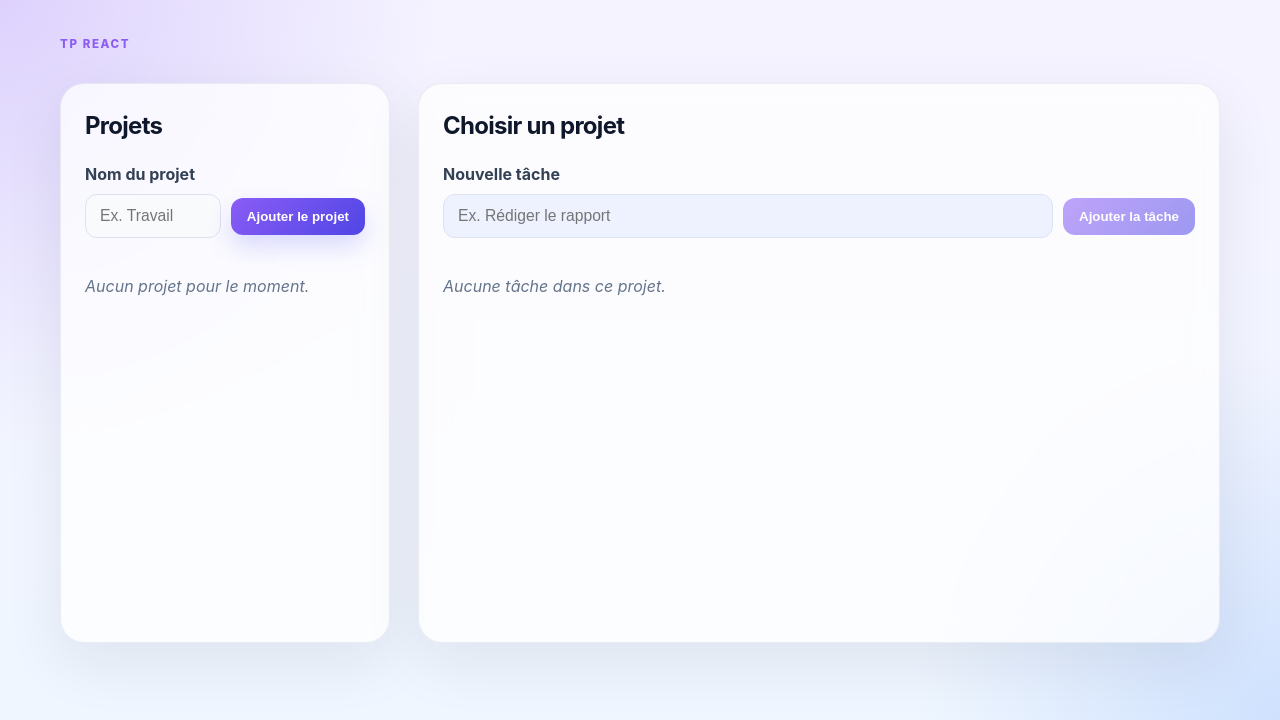
Test: ToDo app › allows creating a project and adding a task to it
Type "Travail" into the field labelled "Nom du projet" at x=153, y=216, box x1=85 y1=194 x2=221 y2=238
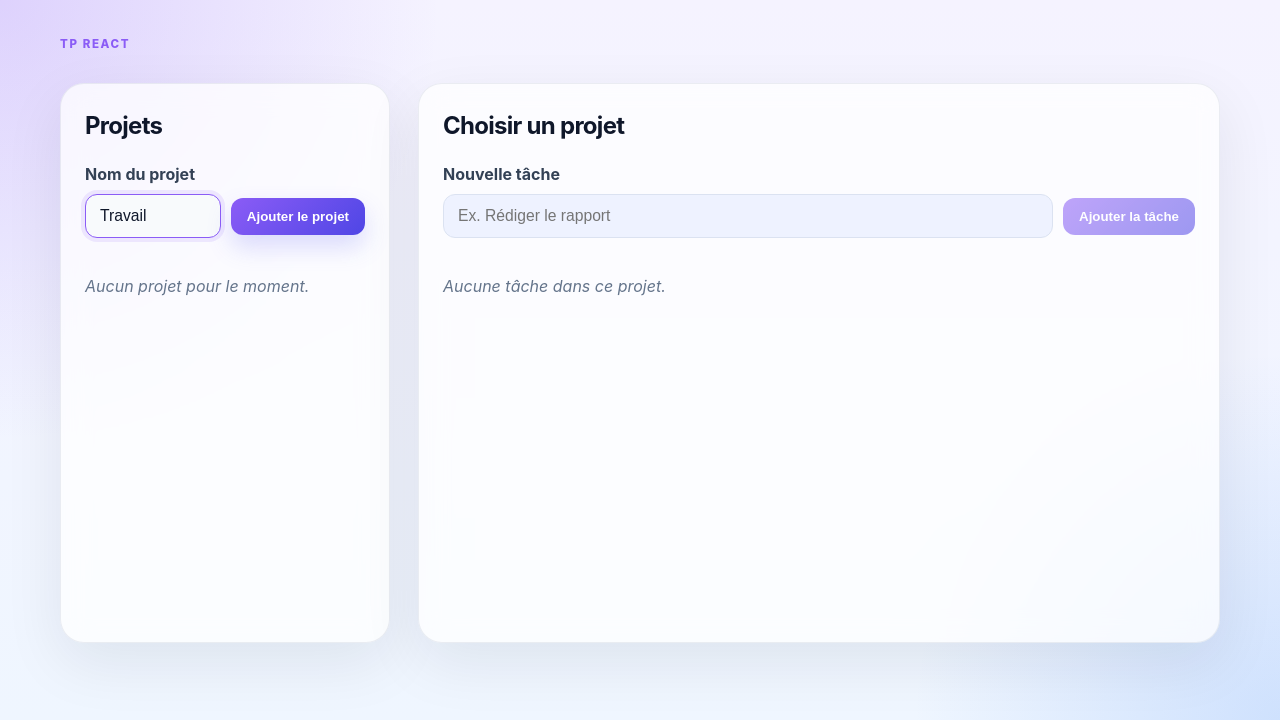
Click the button "Ajouter le projet" at x=298, y=216, box x1=231 y1=198 x2=365 y2=235
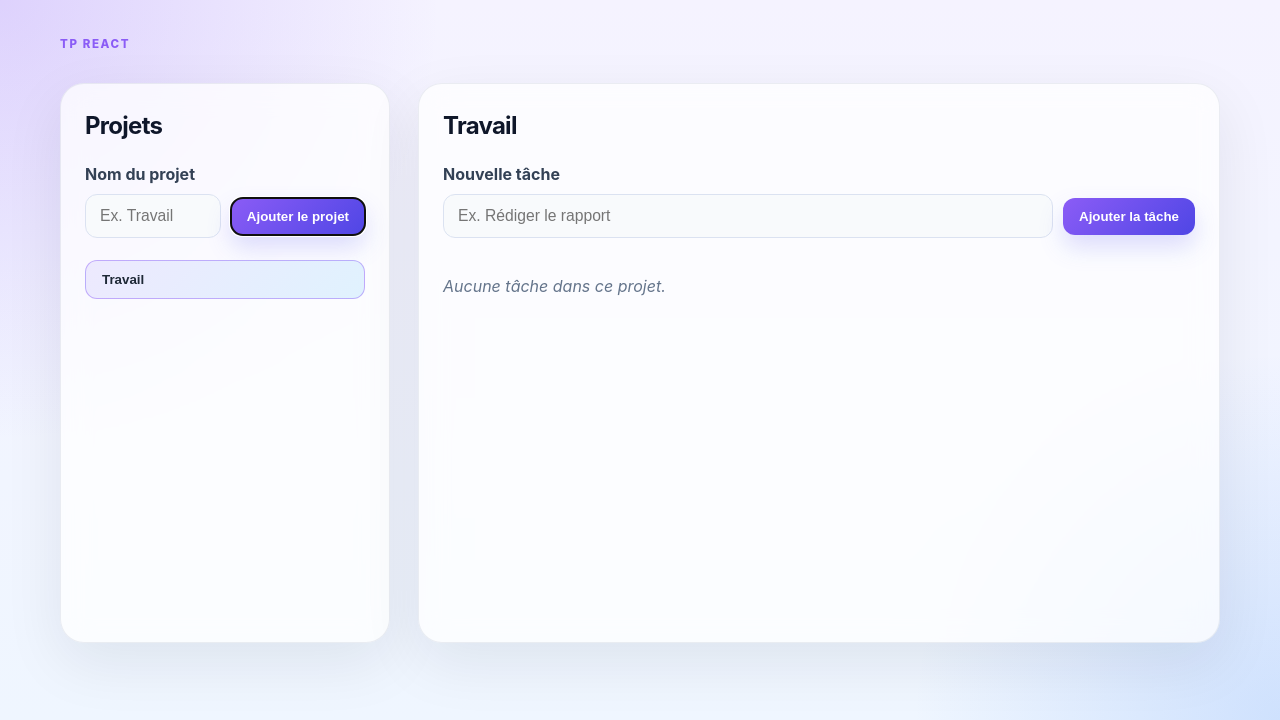
Check: the button "Travail" is shown, box x1=85 y1=260 x2=365 y2=299
Type "Rédiger le rapport" into the field labelled "Nouvelle tâche" at x=748, y=216, box x1=443 y1=194 x2=1053 y2=238
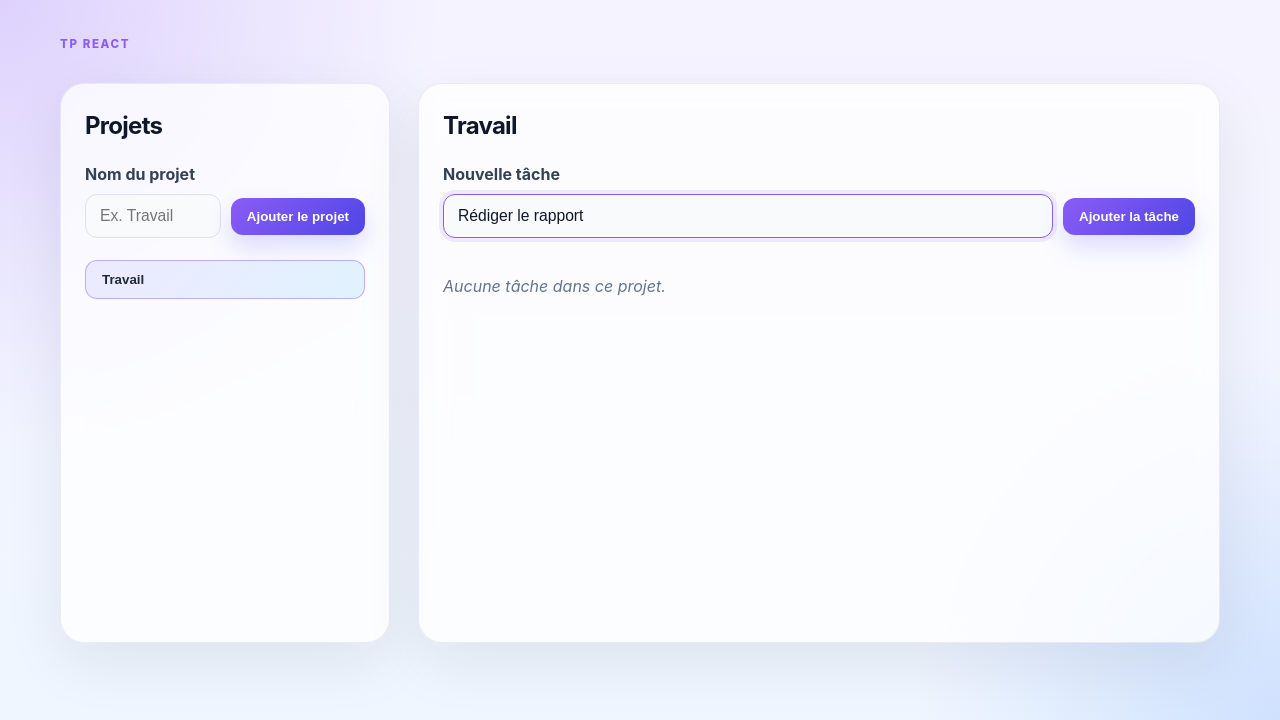
Click the button "Ajouter la tâche" at x=1129, y=216, box x1=1063 y1=198 x2=1195 y2=235
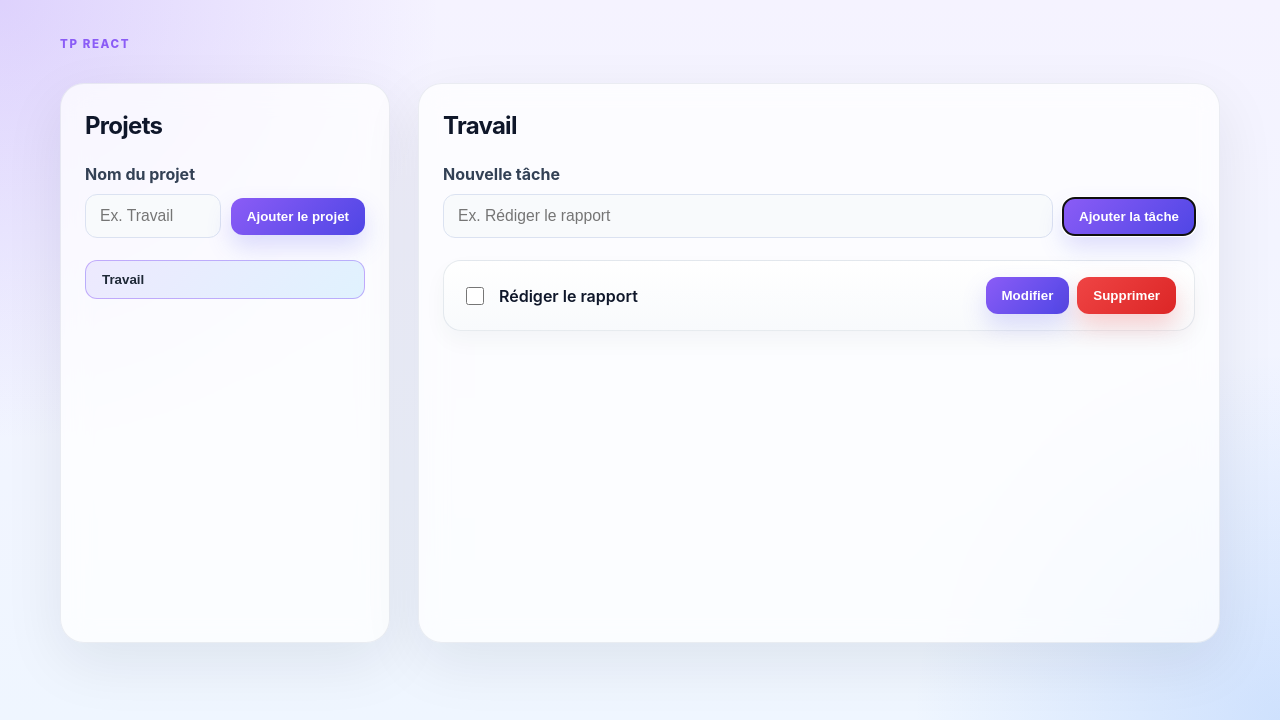
Check: the text "Rédiger le rapport" is shown, box x1=499 y1=284 x2=638 y2=308
